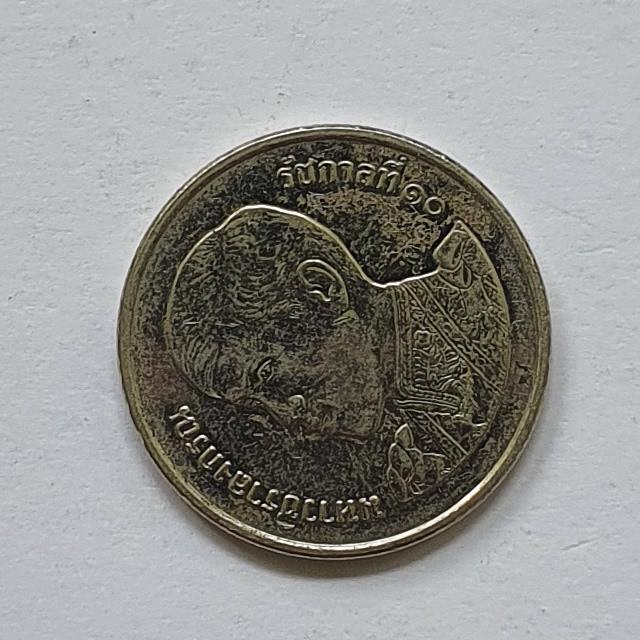1 Bath: (113, 117, 559, 572)
